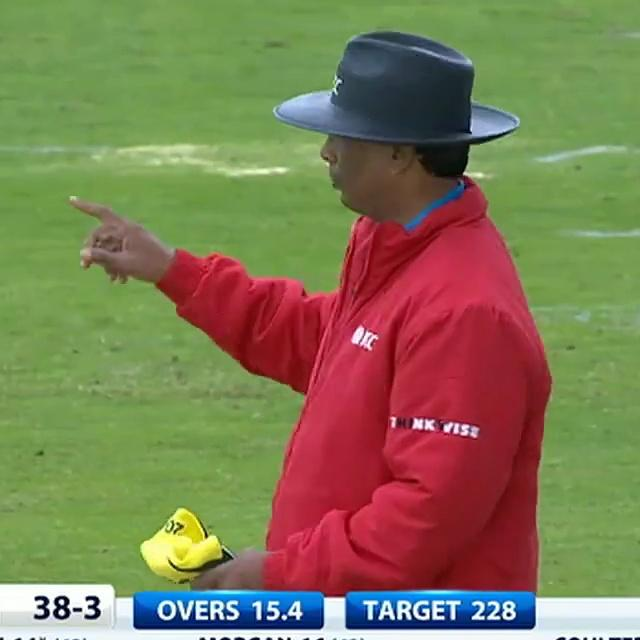umpire: (52, 1, 584, 591)
